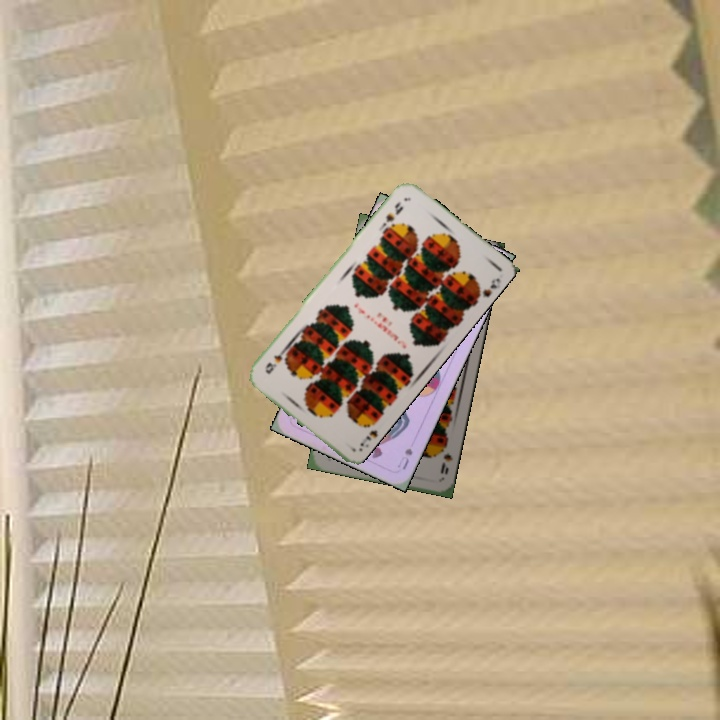S9: (379, 197, 406, 229), (356, 416, 381, 449), (436, 439, 455, 477)
SU: (393, 444, 415, 472)
